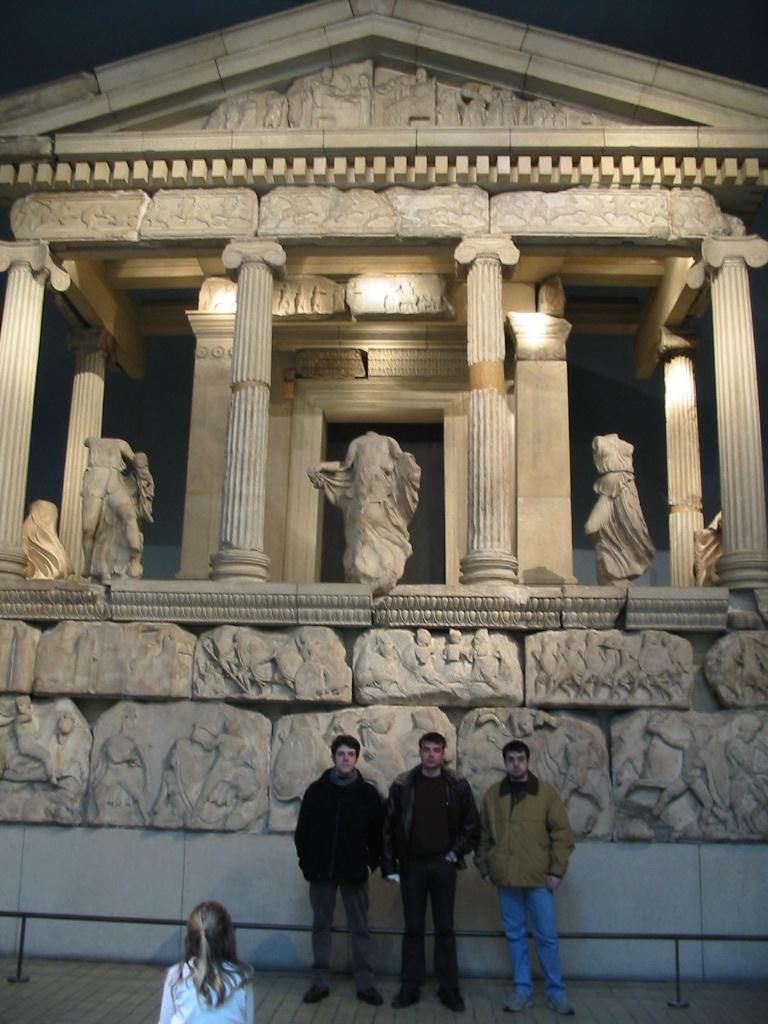Sem Máscara: (503, 742, 532, 780), (333, 733, 356, 771), (418, 738, 442, 771)
